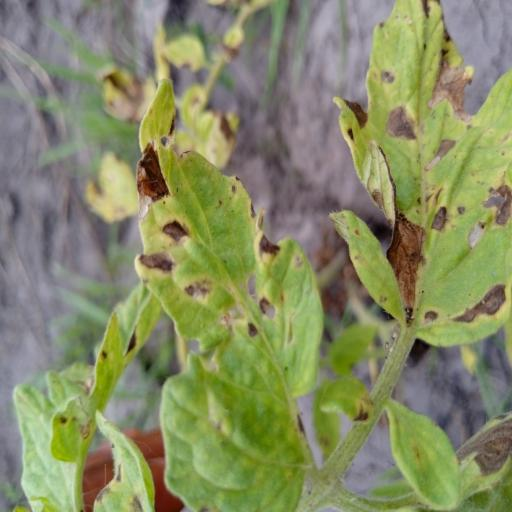Tomato_Brown_Spots: (134, 66, 328, 512), (336, 0, 512, 350)
